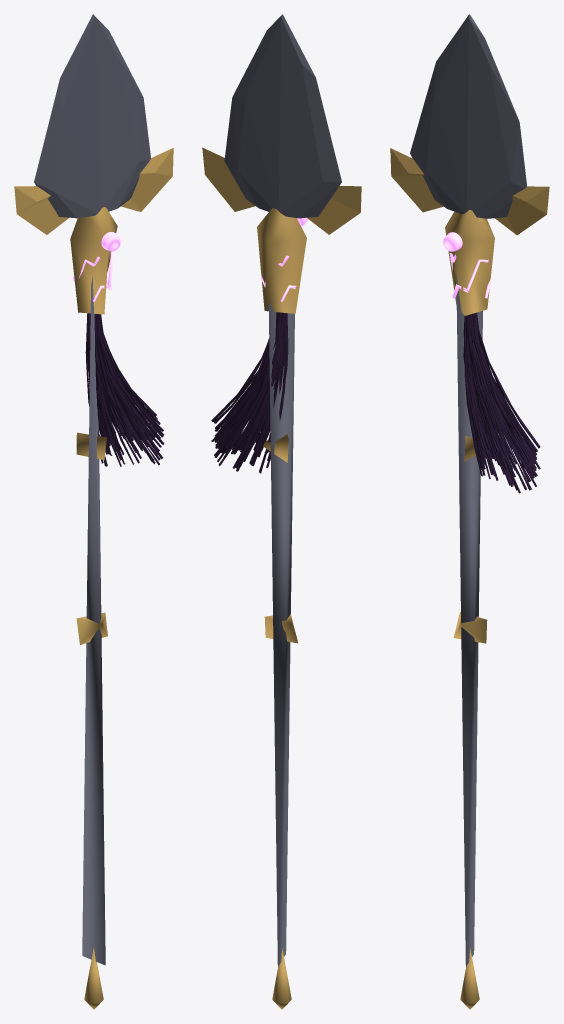
File: thien-loi-pha-tran.glb
The picture shows the model from 3 angles, left to right: view 1: azimuth 30°, elevation 25°; view 2: azimuth 150°, elevation 25°; view 3: azimuth 330°, elevation 25°; orthographic projection.
Parts seen in each view (by area): view 1: head, shaft, tassel, socket, bolt_l, bolt_r, butt, band, band.001; view 2: head, shaft, tassel, socket, bolt_l, bolt_r, butt, band; view 3: head, shaft, tassel, socket, bolt_r, bolt_l, butt, band.
Part boxes in pixels (x1,y1,x2,y2): head: [34, 14, 150, 218]; shaft: [82, 276, 105, 965]; tassel: [85, 313, 164, 466]; socket: [70, 207, 117, 314]; bolt_l: [14, 186, 68, 234]; bolt_r: [121, 148, 173, 211]; butt: [84, 947, 103, 1009]; band: [76, 612, 107, 644]; band.001: [76, 432, 106, 459]; head: [224, 14, 341, 218]; shaft: [268, 301, 294, 966]; tassel: [211, 312, 288, 473]; socket: [257, 208, 306, 313]; bolt_l: [307, 186, 361, 234]; bolt_r: [202, 147, 255, 211]; butt: [272, 948, 291, 1009]; band: [264, 614, 297, 643]; head: [410, 14, 526, 218]; shaft: [456, 274, 482, 966]; tassel: [463, 312, 540, 493]; socket: [445, 210, 494, 315]; bolt_r: [495, 186, 549, 235]; bolt_l: [390, 148, 443, 212]; butt: [460, 948, 479, 1009]; band: [453, 612, 487, 643].
Bounding box in the file's own units: 0.3051 × 1.82 × 0.1217.
